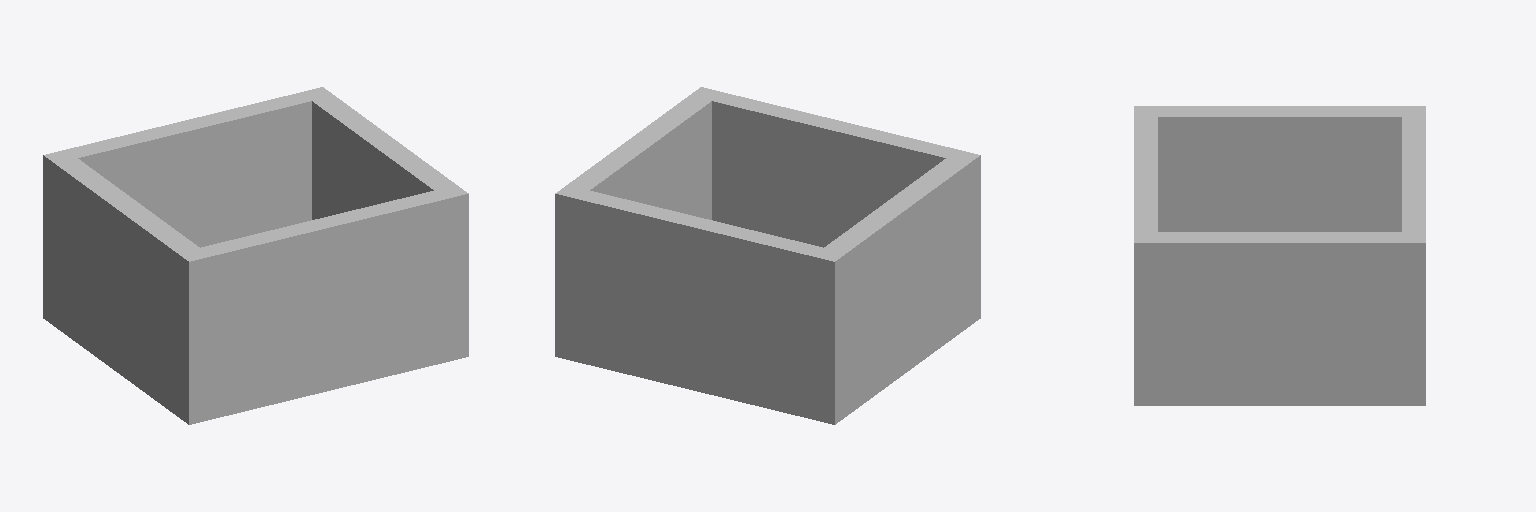
The model's file is Cart.obj.
The picture shows the model from 3 angles: view 1: azimuth 30°, elevation 25°; view 2: azimuth 150°, elevation 25°; view 3: azimuth 270°, elevation 25°; orthographic projection.
Parts seen in each view (by area): view 1: Cart_Cube.566; view 2: Cart_Cube.566; view 3: Cart_Cube.566.
Part boxes in pixels (bbox=[...]): Cart_Cube.566: bbox=[43, 87, 468, 424]; Cart_Cube.566: bbox=[555, 87, 980, 424]; Cart_Cube.566: bbox=[1134, 106, 1425, 405].
Bounding box in the file's own units: 1.96 × 1.09 × 1.77.